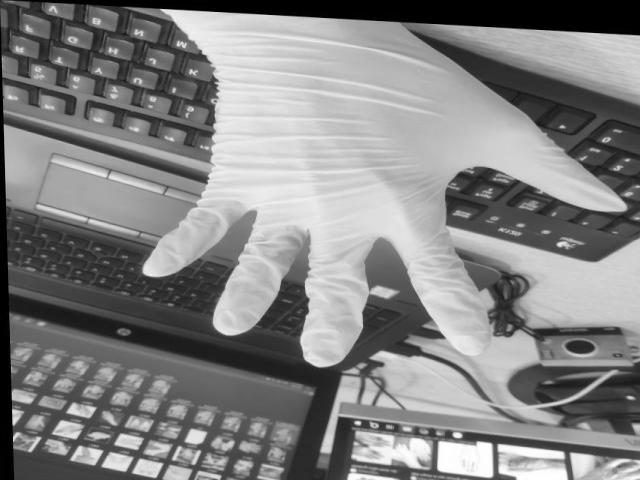gloved: (145, 8, 624, 367)
